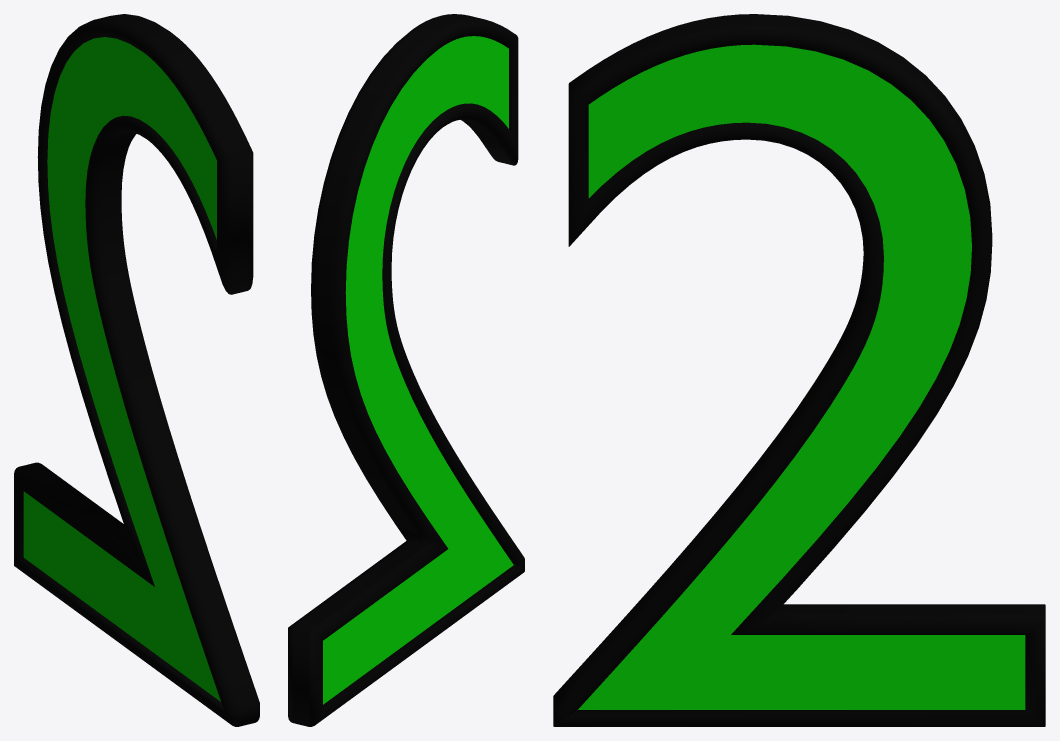
3 renders of one model, left to right at view 1: azimuth 30°, elevation 25°; view 2: azimuth 150°, elevation 25°; view 3: azimuth 270°, elevation 25°, orthographic. The views are drawn at different scales.
Visible parts, largest first — view 1: 2; view 2: 2; view 3: 2.
Boxes of the visible parts, left/top/right/bottom form: 2: left=14, top=14, right=259, bottom=726; 2: left=288, top=14, right=524, bottom=726; 2: left=553, top=14, right=1045, bottom=726.
Bounding box in the file's own units: 8 × 142 × 90.4.
